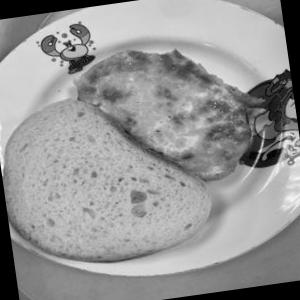bread: (0, 70, 215, 289)
cheese_sandwich: (70, 20, 270, 209)
